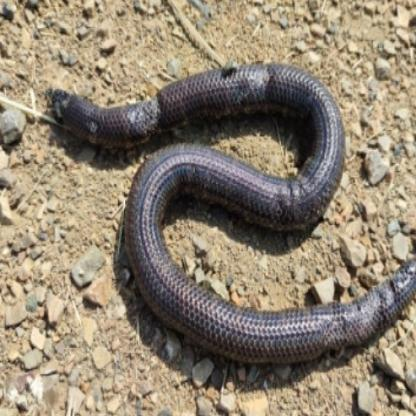snakes: (42, 51, 416, 358)
